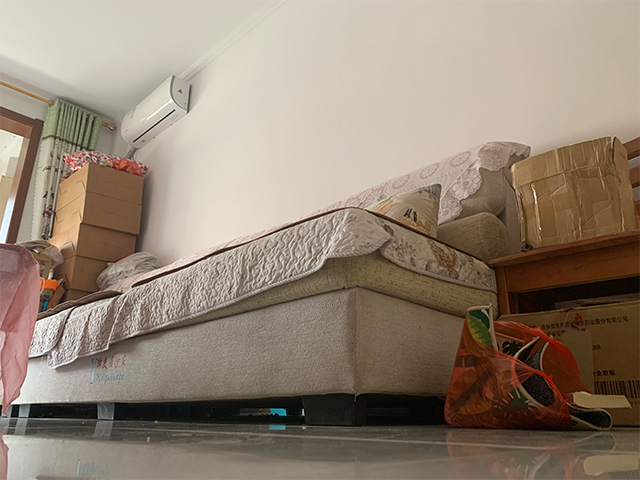book: (563, 390, 633, 410)
sofa: (42, 158, 535, 427)
